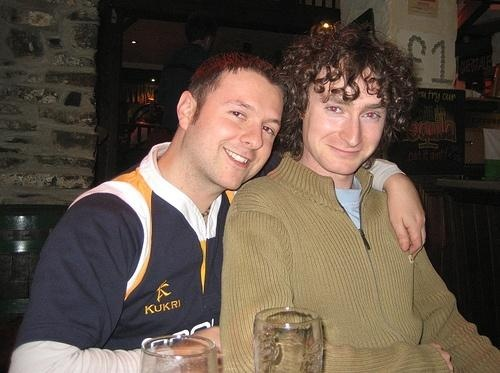face: (192, 73, 283, 186), (305, 70, 391, 174)
hand: (380, 169, 427, 259)
